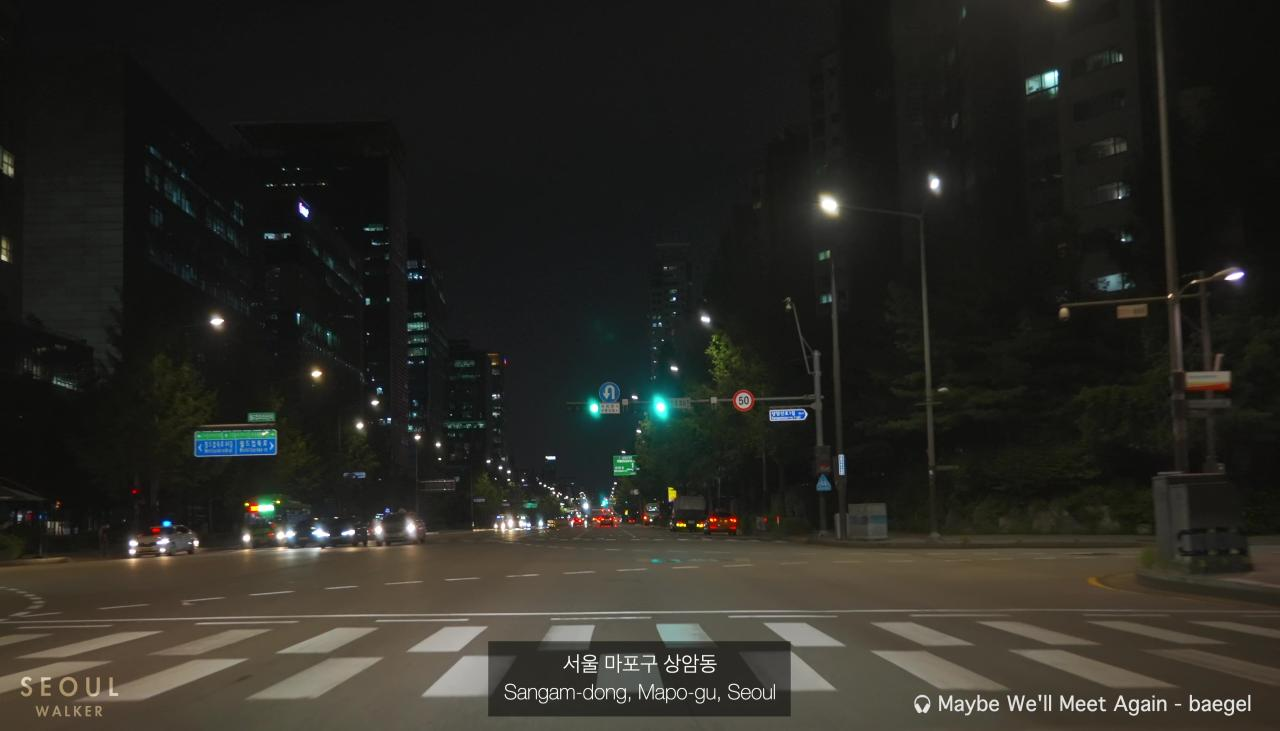Green Light: (655, 401, 666, 412), (588, 403, 599, 413)
